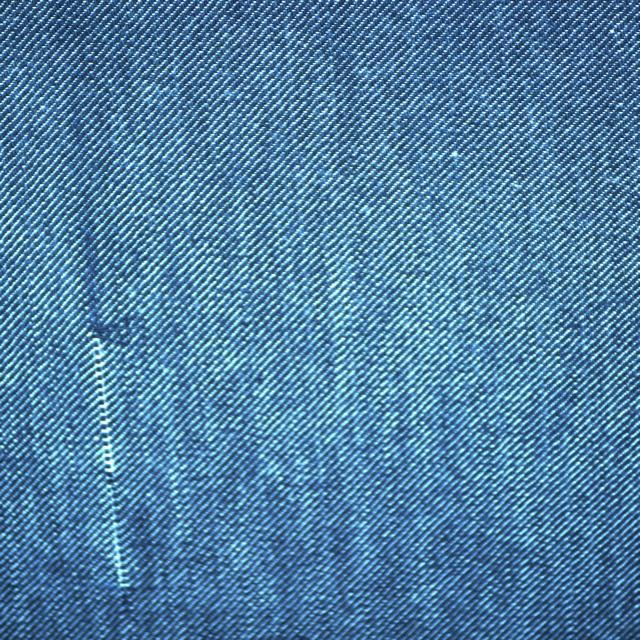Line: (79, 211, 136, 609)
